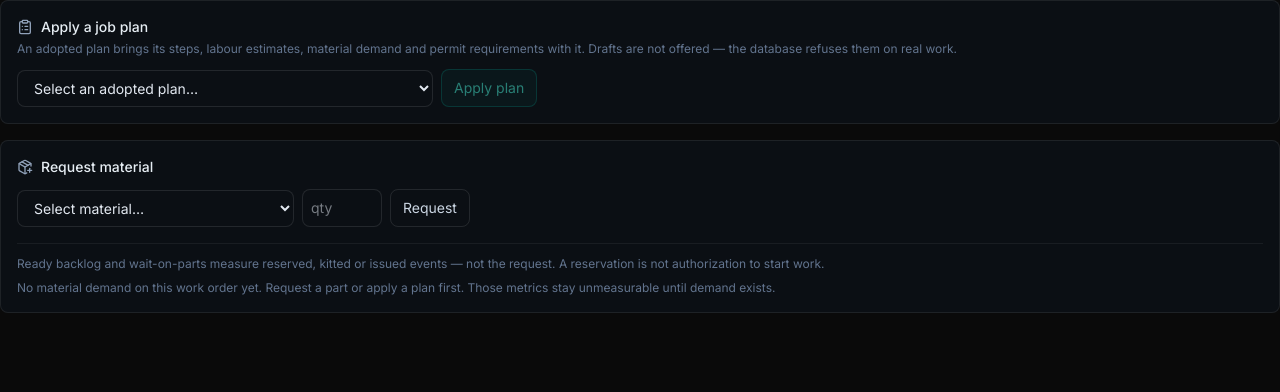
Test: WorkOrderPlanningPanel › applies a plan through apply_job_plan and reports the safety flag
The image size is (1280, 392).
Select "Replace pump seal — 4 steps, 6h, 2 materials, 1 permits" in the dropdown named "Job plan": (225, 88) [17,70,433,106]
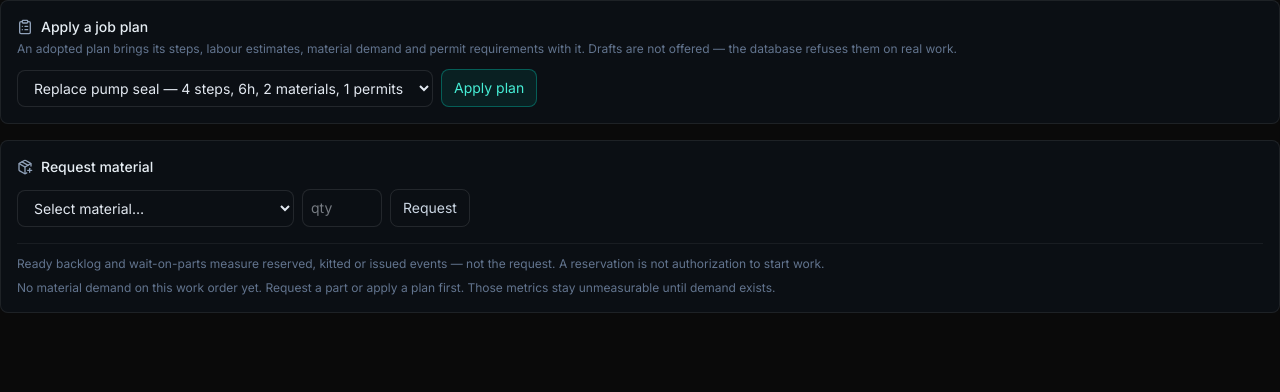
Click the button "Apply plan": click(489, 88) [441,69,537,107]
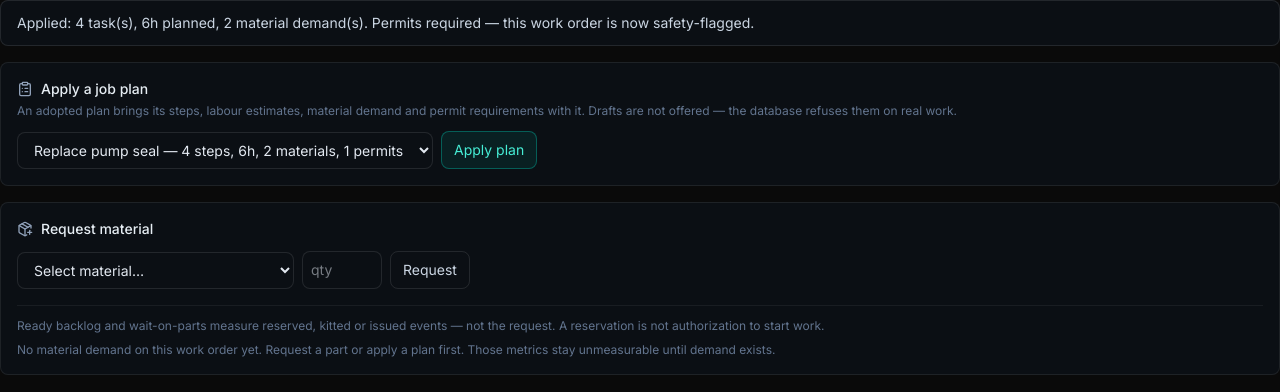
Expected: the text "safety-flagged" is shown, [17,14,754,31]
